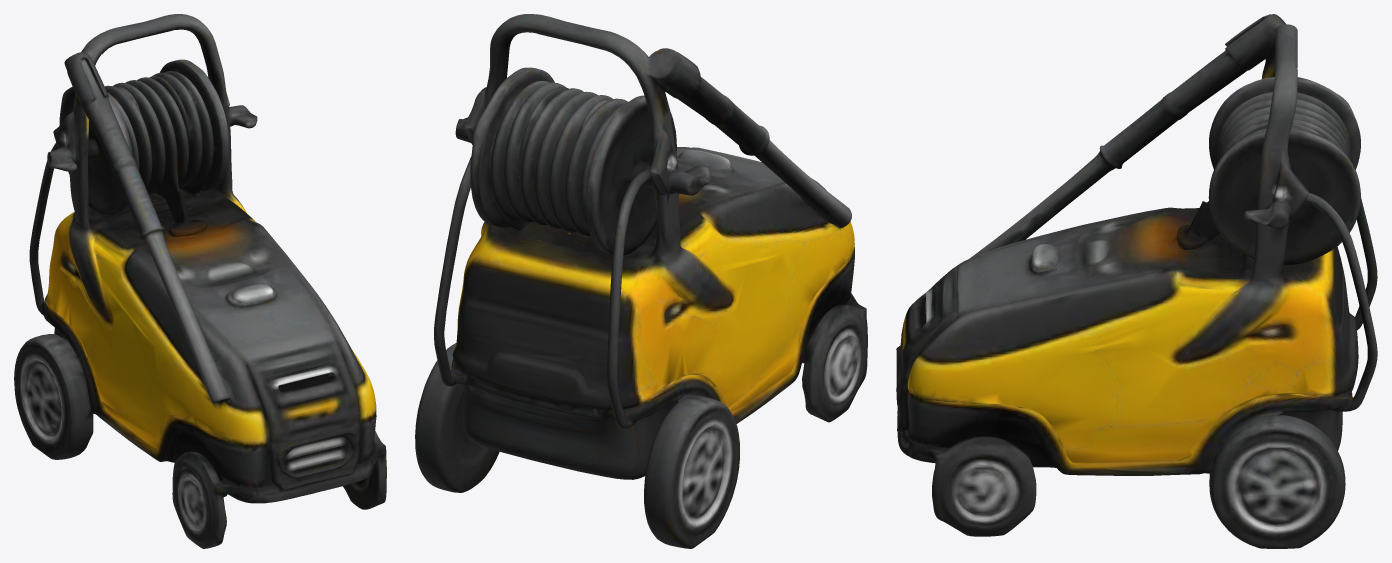
File: pressure-washer.glb
3 views of the same model, side by side, from view 1: azimuth 30°, elevation 25°; view 2: azimuth 150°, elevation 25°; view 3: azimuth 270°, elevation 25° (orthographic). The views are drawn at different scales.
Visible parts, largest first — view 1: node_0; view 2: node_0; view 3: node_0.
Part boxes in pixels (x1,y1,x2,y2): node_0: (14,14,386,548); node_0: (415,14,867,548); node_0: (896,14,1377,548).
Bounding box in the file's own units: 0.5068 × 0.9232 × 0.8923.
Materials: 1 (1 with a texture image).
